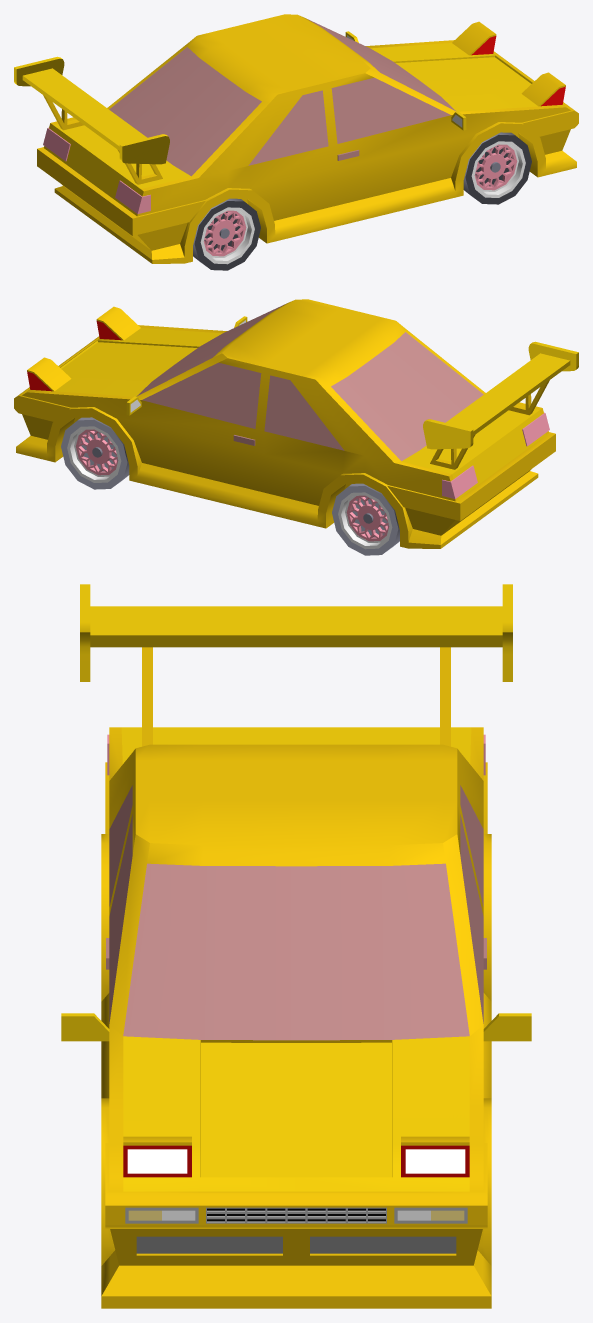
The model's file is SportOrange.gltf.
3 renders of one model, top to bottom at view 1: azimuth 30°, elevation 25°; view 2: azimuth 150°, elevation 25°; view 3: azimuth 270°, elevation 25°, orthographic. The views are drawn at different scales.
Parts seen in each view (by area): view 1: Cabin, Wheels/Windows, Car, Wheels, Disks 02, Disks 01, Red lights 1, Front lights body; view 2: Cabin, Wheels/Windows, Car, Wheels, Disks 02, Disks 01, Red lights 1, Front lights body; view 3: Cabin, Car, Wheels/Windows, Frame/grid, Front lights 1, Front lights body, Grid background.
Part boxes in pixels (left/top/right/bottom): Cabin: left=37, top=14, right=578, bottom=263; Wheels/Windows: left=109, top=19, right=456, bottom=176; Car: left=14, top=31, right=565, bottom=213; Wheels: left=193, top=132, right=531, bottom=270; Disks 02: left=203, top=144, right=517, bottom=256; Disks 01: left=200, top=141, right=525, bottom=264; Red lights 1: left=43, top=127, right=150, bottom=213; Front lights body: left=471, top=36, right=565, bottom=106; Cabin: left=14, top=299, right=555, bottom=548; Wheels/Windows: left=136, top=304, right=483, bottom=461; Car: left=27, top=316, right=578, bottom=498; Wheels: left=61, top=417, right=399, bottom=555; Disks 02: left=75, top=429, right=389, bottom=541; Disks 01: left=67, top=426, right=392, bottom=549; Red lights 1: left=442, top=412, right=549, bottom=498; Front lights body: left=27, top=321, right=121, bottom=391; Cabin: left=101, top=647, right=491, bottom=1308; Car: left=61, top=584, right=531, bottom=1191; Wheels/Windows: left=106, top=785, right=486, bottom=1040; Frame/grid: left=125, top=1207, right=467, bottom=1253; Front lights 1: left=127, top=1149, right=465, bottom=1173; Front lights body: left=123, top=1145, right=469, bottom=1177; Grid background: left=207, top=1208, right=385, bottom=1221.
Size of the model in its own units: 0.0477 by 0.0155 by 0.021.
